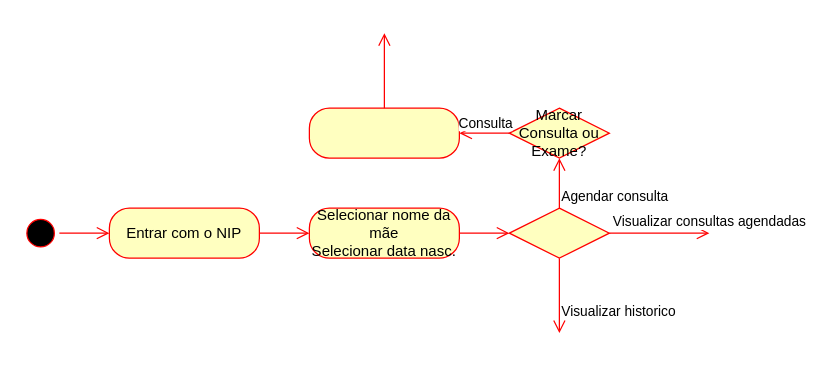
Some shapes in this 829 by 368 pixel diagram are drawn without their labels. Each missing label, with the centre of its shape:
"Activity" goes at pixel 383 132.
"Ação" goes at pixel 558 232.
